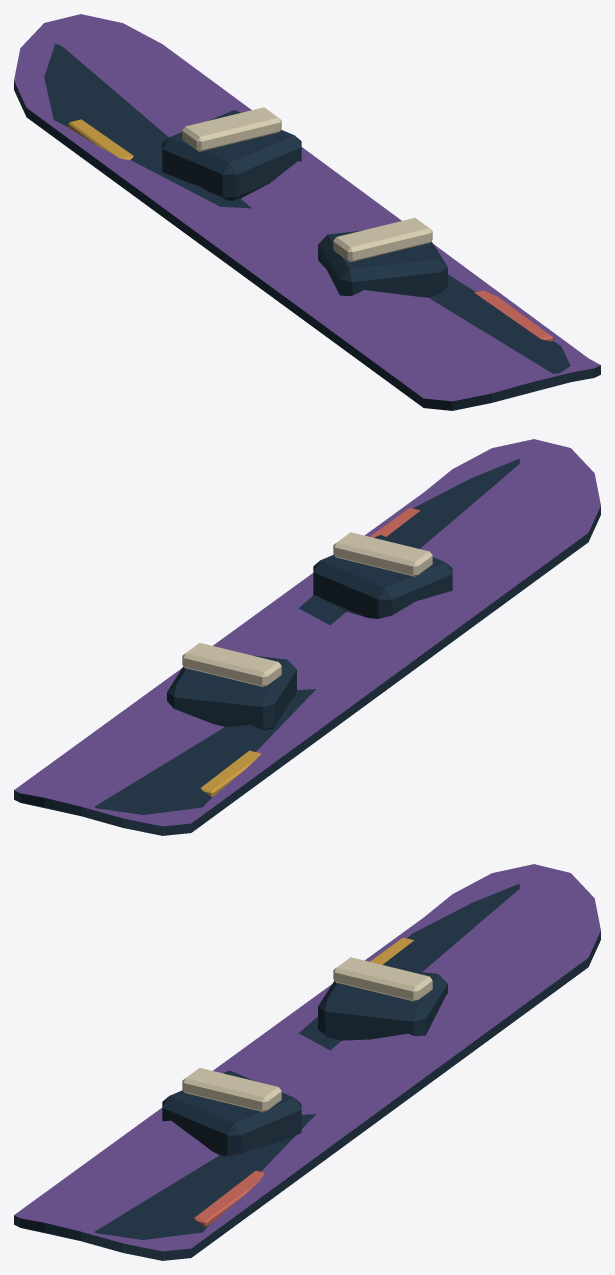
Rendered from snowboard.glb.
3 views of the same model, one above another, from view 1: azimuth 30°, elevation 25°; view 2: azimuth 150°, elevation 25°; view 3: azimuth 330°, elevation 25° (orthographic).
Parts seen in each view (by area): view 1: snowboard, binding_front, binding_rear, strap_front, strap_rear, nose_accent, tail_accent; view 2: snowboard, binding_rear, binding_front, strap_rear, strap_front, nose_accent; view 3: snowboard, binding_rear, binding_front, strap_front, strap_rear, tail_accent.
Part boxes in pixels (x1,y1,x2,y2): snowboard: (14,14,600,410); binding_front: (162,110,301,200); binding_rear: (318,230,447,297); strap_front: (182,107,281,152); strap_rear: (333,218,432,262); nose_accent: (68,119,133,159); tail_accent: (474,290,552,341); snowboard: (14,439,600,835); binding_rear: (313,535,452,618); binding_front: (167,655,296,729); strap_rear: (333,532,432,577); strap_front: (182,643,281,687); nose_accent: (200,750,261,796); snowboard: (14,864,600,1260); binding_rear: (162,1070,301,1156); binding_front: (318,970,447,1040); strap_front: (333,957,432,1001); strap_rear: (182,1068,281,1112); tail_accent: (194,1170,264,1226).
Bounding box in the file's own units: 0.29 × 0.1097 × 1.49.
